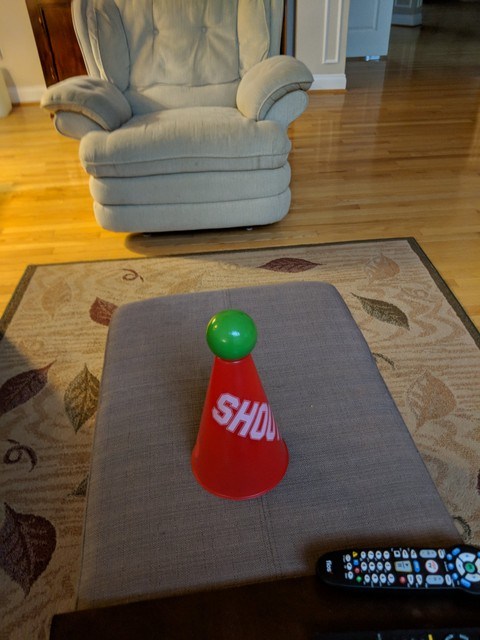Ball: (206, 307, 258, 362)
